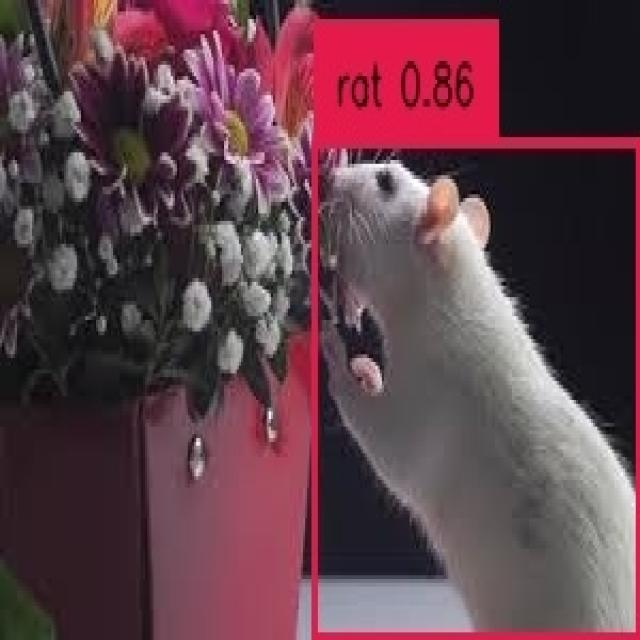rat: (311, 138, 636, 632)
